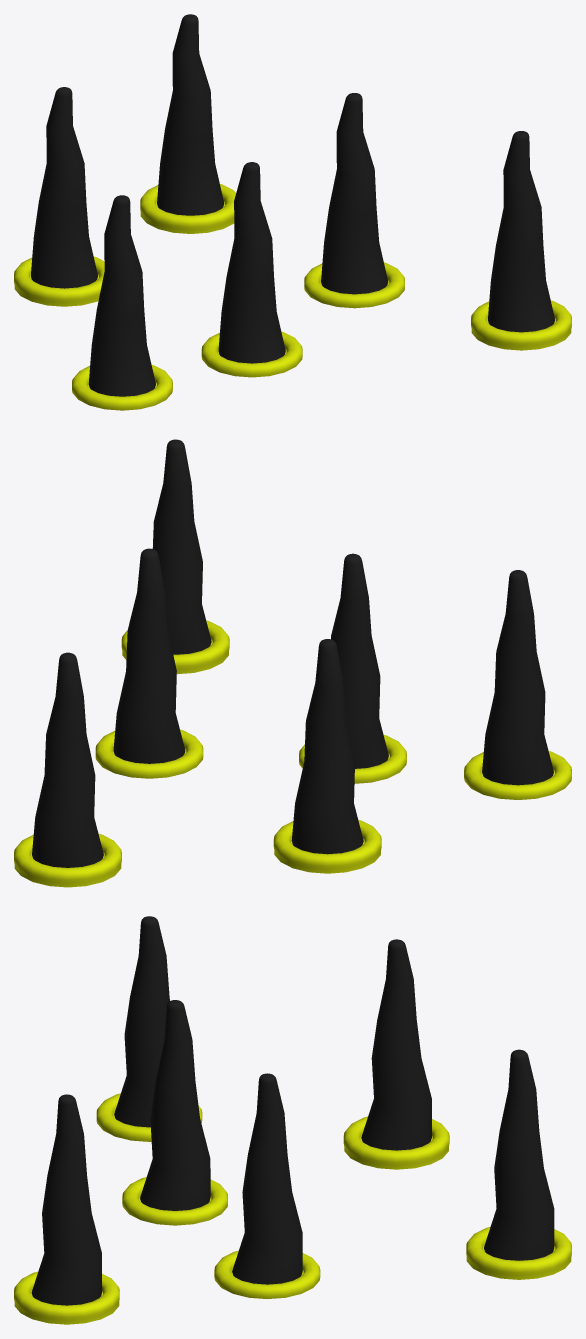
File: Pinchos.fbx
The picture shows the model from 3 angles, top to bottom: view 1: azimuth 30°, elevation 25°; view 2: azimuth 150°, elevation 25°; view 3: azimuth 270°, elevation 25°; orthographic projection. The views are drawn at different scales.
Parts seen in each view (by area): view 1: Cone135, Cone134, Cone139, Cone137, Cone138, Cone136, Cylinder136, Cylinder138, Cylinder137, Cylinder134, Cylinder133, Cylinder135; view 2: Cone134, Cone135, Cone137, Cone138, Cone139, Cone136, Cylinder138, Cylinder137, Cylinder135, Cylinder133, Cylinder136, Cylinder134; view 3: Cone134, Cone136, Cone135, Cone139, Cone138, Cone137, Cylinder136, Cylinder138, Cylinder137, Cylinder135, Cylinder134, Cylinder133.
Part boxes in pixels (x1=…): Cone135: x1=321, y1=93, x2=388, y2=294; Cone134: x1=157, y1=14, x2=224, y2=215; Cone139: x1=488, y1=131, x2=554, y2=332; Cone137: x1=88, y1=195, x2=155, y2=396; Cone138: x1=31, y1=87, x2=97, y2=288; Cone136: x1=218, y1=162, x2=285, y2=363; Cylinder136: x1=471, y1=300, x2=571, y2=350; Cylinder138: x1=140, y1=184, x2=235, y2=233; Cylinder137: x1=14, y1=256, x2=104, y2=306; Cylinder134: x1=201, y1=331, x2=302, y2=377; Cylinder133: x1=72, y1=365, x2=172, y2=410; Cylinder135: x1=304, y1=262, x2=404, y2=308; Cone134: x1=32, y1=652, x2=103, y2=867; Cone135: x1=113, y1=548, x2=185, y2=763; Cone137: x1=482, y1=570, x2=553, y2=785; Cone138: x1=291, y1=639, x2=363, y2=854; Cone139: x1=152, y1=439, x2=211, y2=654; Cone136: x1=331, y1=553, x2=388, y2=768; Cylinder138: x1=14, y1=833, x2=121, y2=887; Cylinder137: x1=273, y1=820, x2=381, y2=873; Cylinder135: x1=95, y1=729, x2=203, y2=778; Cylinder133: x1=464, y1=751, x2=571, y2=799; Cylinder136: x1=121, y1=620, x2=229, y2=674; Cylinder134: x1=299, y1=735, x2=406, y2=783; Cone134: x1=484, y1=1049, x2=554, y2=1260; Cone136: x1=140, y1=1000, x2=210, y2=1210; Cone135: x1=232, y1=1073, x2=302, y2=1284; Cone139: x1=31, y1=1094, x2=102, y2=1305; Cone138: x1=361, y1=939, x2=431, y2=1150; Cone137: x1=114, y1=916, x2=169, y2=1127; Cylinder136: x1=14, y1=1271, x2=119, y2=1324; Cylinder138: x1=466, y1=1227, x2=571, y2=1279; Cylinder137: x1=343, y1=1116, x2=449, y2=1169; Cylinder135: x1=214, y1=1250, x2=320, y2=1299; Cylinder134: x1=122, y1=1177, x2=227, y2=1225; Cylinder133: x1=96, y1=1093, x2=202, y2=1141.
Size of the model in its own units: 378 by 170 by 388.
